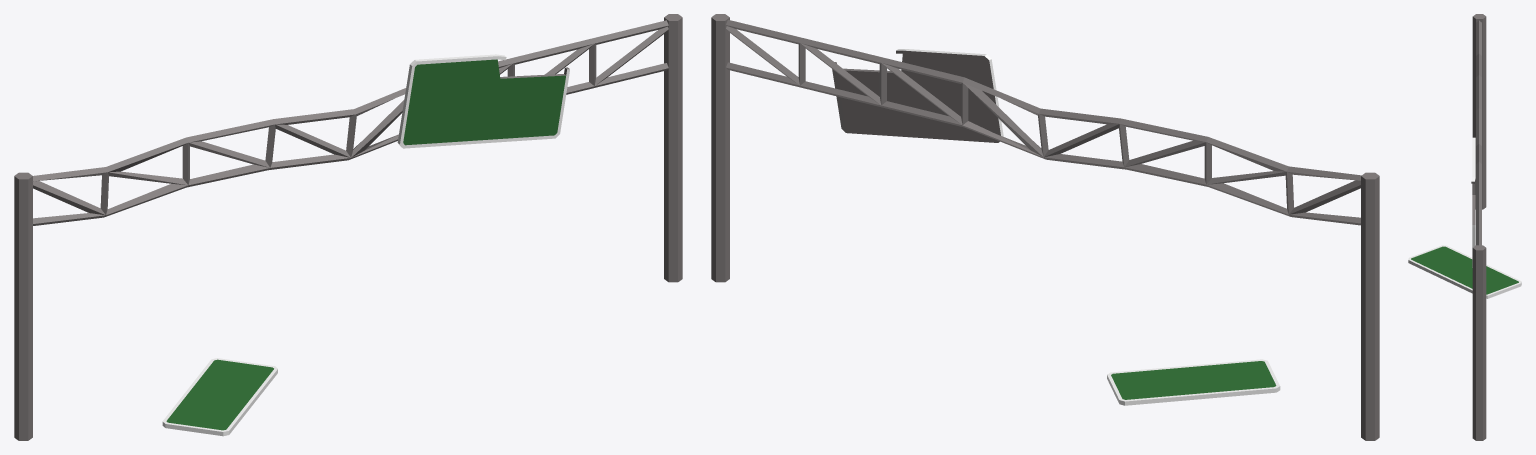
File: apocalypse-mainroad-sign-green-apocalypse-b.glb
The picture shows the model from 3 angles, left to right: view 1: azimuth 30°, elevation 25°; view 2: azimuth 150°, elevation 25°; view 3: azimuth 270°, elevation 25°; orthographic projection. The views are drawn at different scales.
Parts seen in each view (by area): view 1: mainroad-sign-green-apocalypse-b; view 2: mainroad-sign-green-apocalypse-b; view 3: mainroad-sign-green-apocalypse-b.
Part boxes in pixels (left/top/right/bottom): mainroad-sign-green-apocalypse-b: left=14, top=14, right=682, bottom=440; mainroad-sign-green-apocalypse-b: left=711, top=14, right=1379, bottom=440; mainroad-sign-green-apocalypse-b: left=1408, top=14, right=1521, bottom=440.
Bounding box in the file's own units: 16.35 × 6.7 × 3.31.
